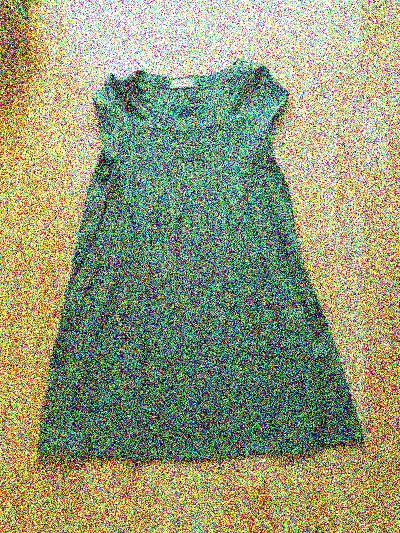Dress: (30, 29, 371, 466)
